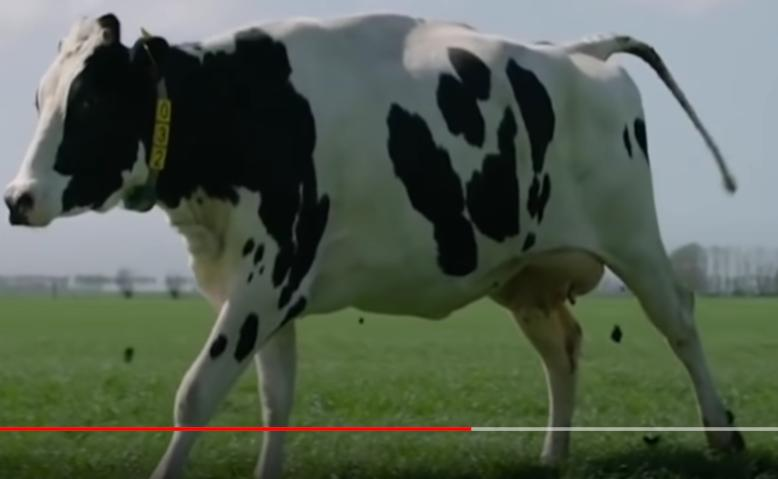cow: (0, 11, 751, 479)
